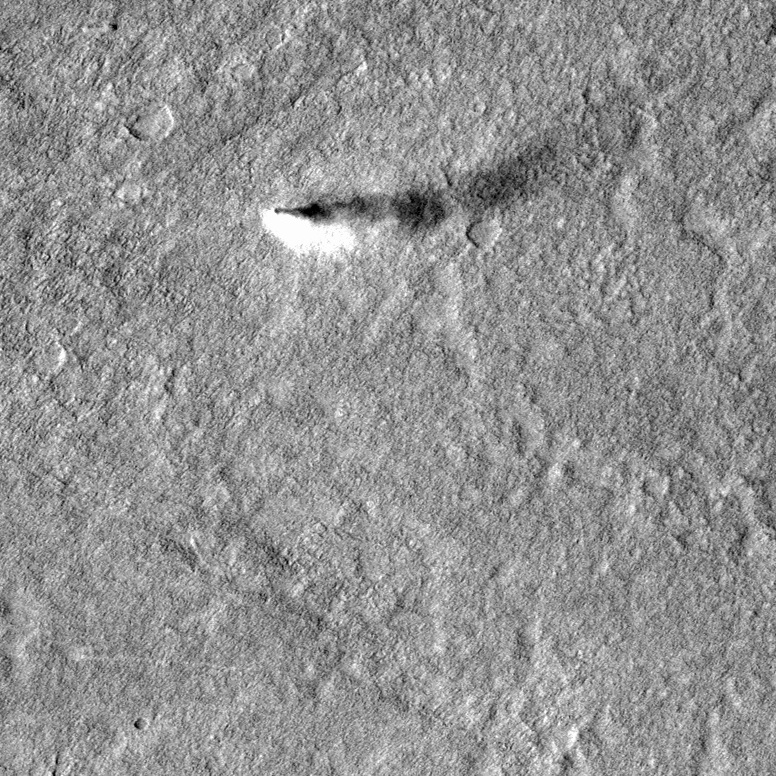dust_devil: (257, 144, 558, 261)
